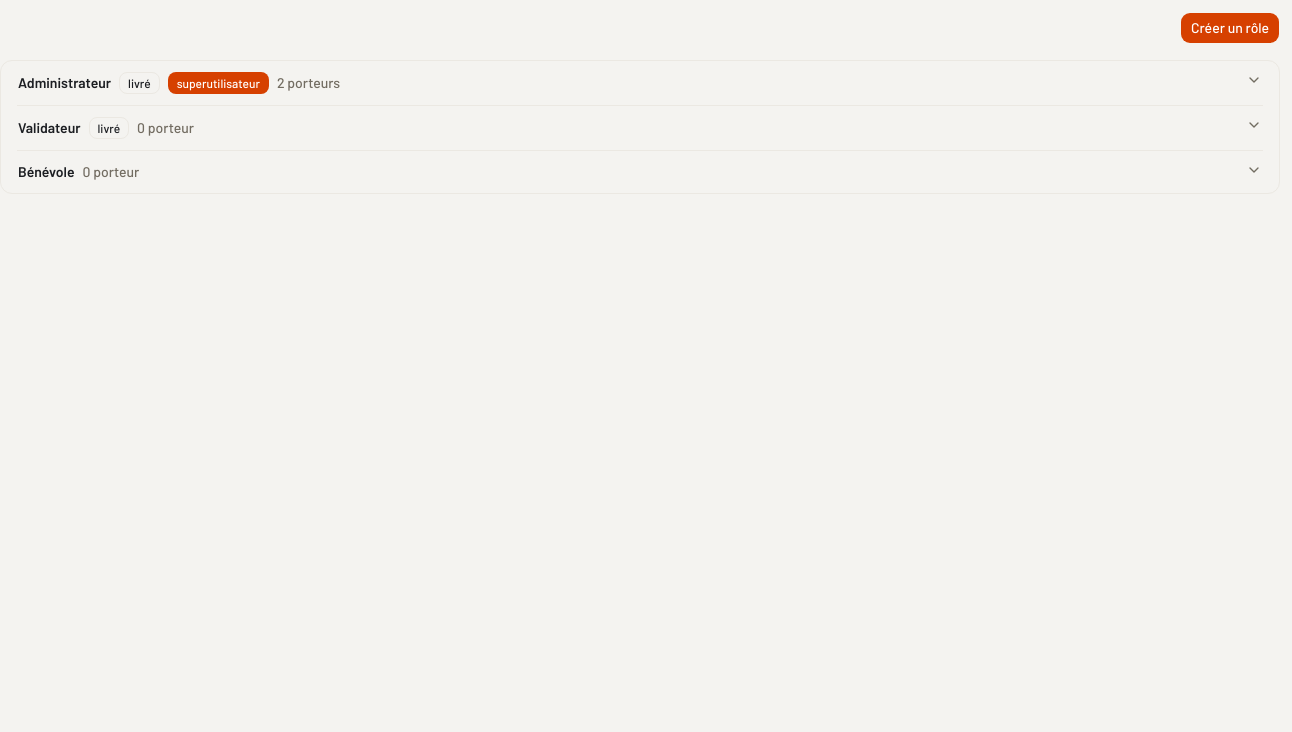
Test: RolePermissionsEditor — lecture › montre les codes périmés à part, annoncés sans effet
Click the button "Bénévole 0 porteur": (46, 172) [17,151,1263,193]
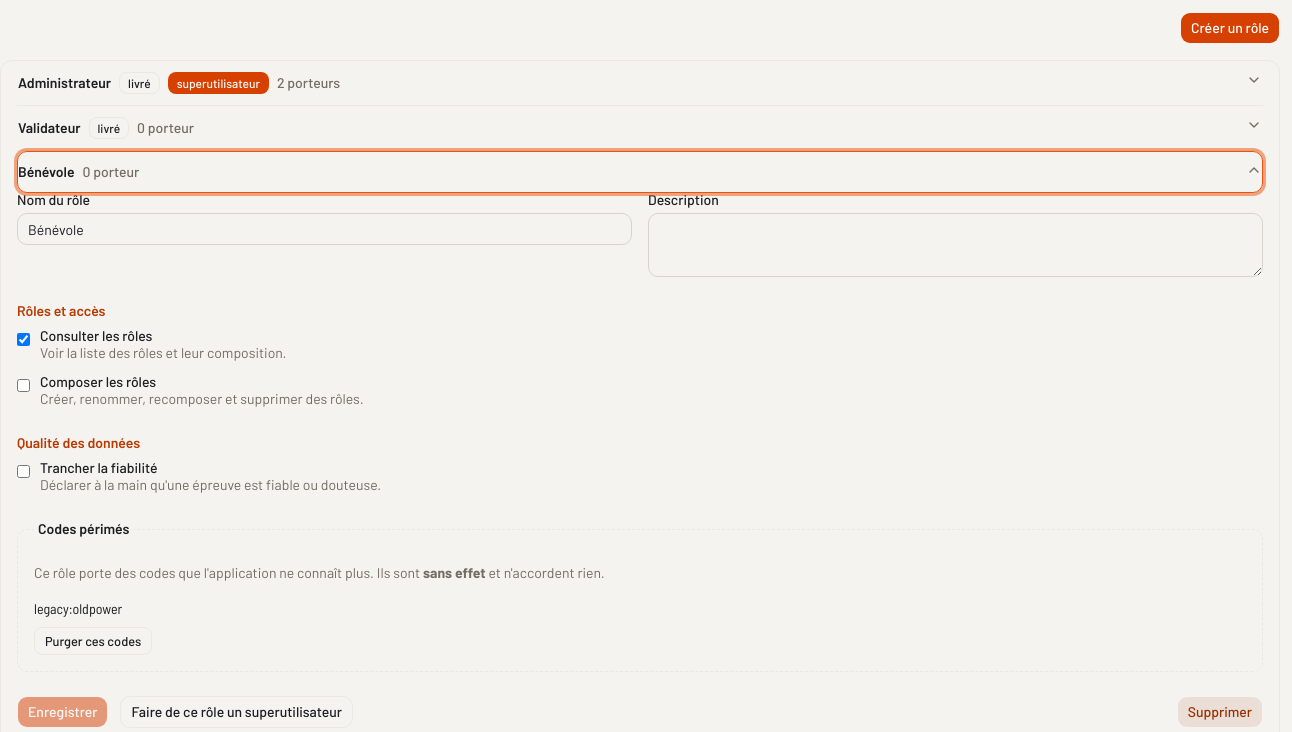
Expected: the list item "legacy:oldpower" is shown, [34,600,122,617]
Expected: the element "périmé" shows "sans effet", [423,564,486,581]
